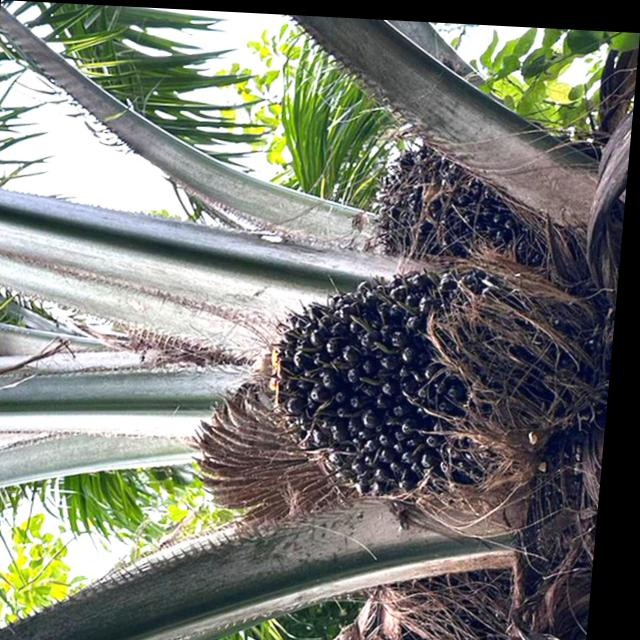almost: (270, 260, 530, 503)
